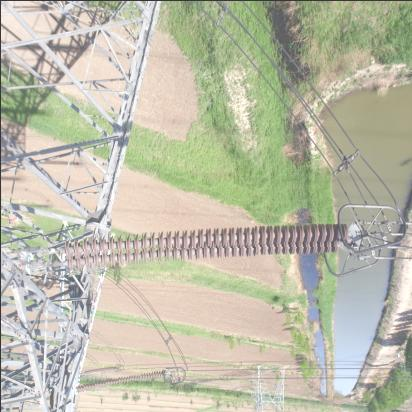insulator: (43, 223, 354, 273), (75, 371, 173, 393)
